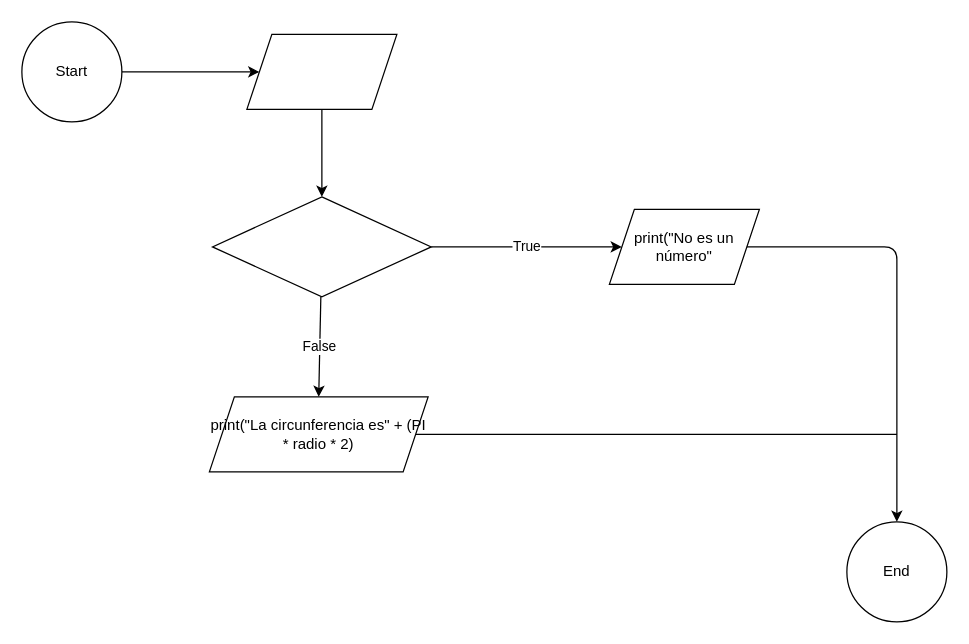
This 969x644 diagram has some shape labels left out. Each missing label, with the centre of its shape:
"isNaN(radio)" goes at pixel 321 246.
"radio <-" goes at pixel 321 71.
